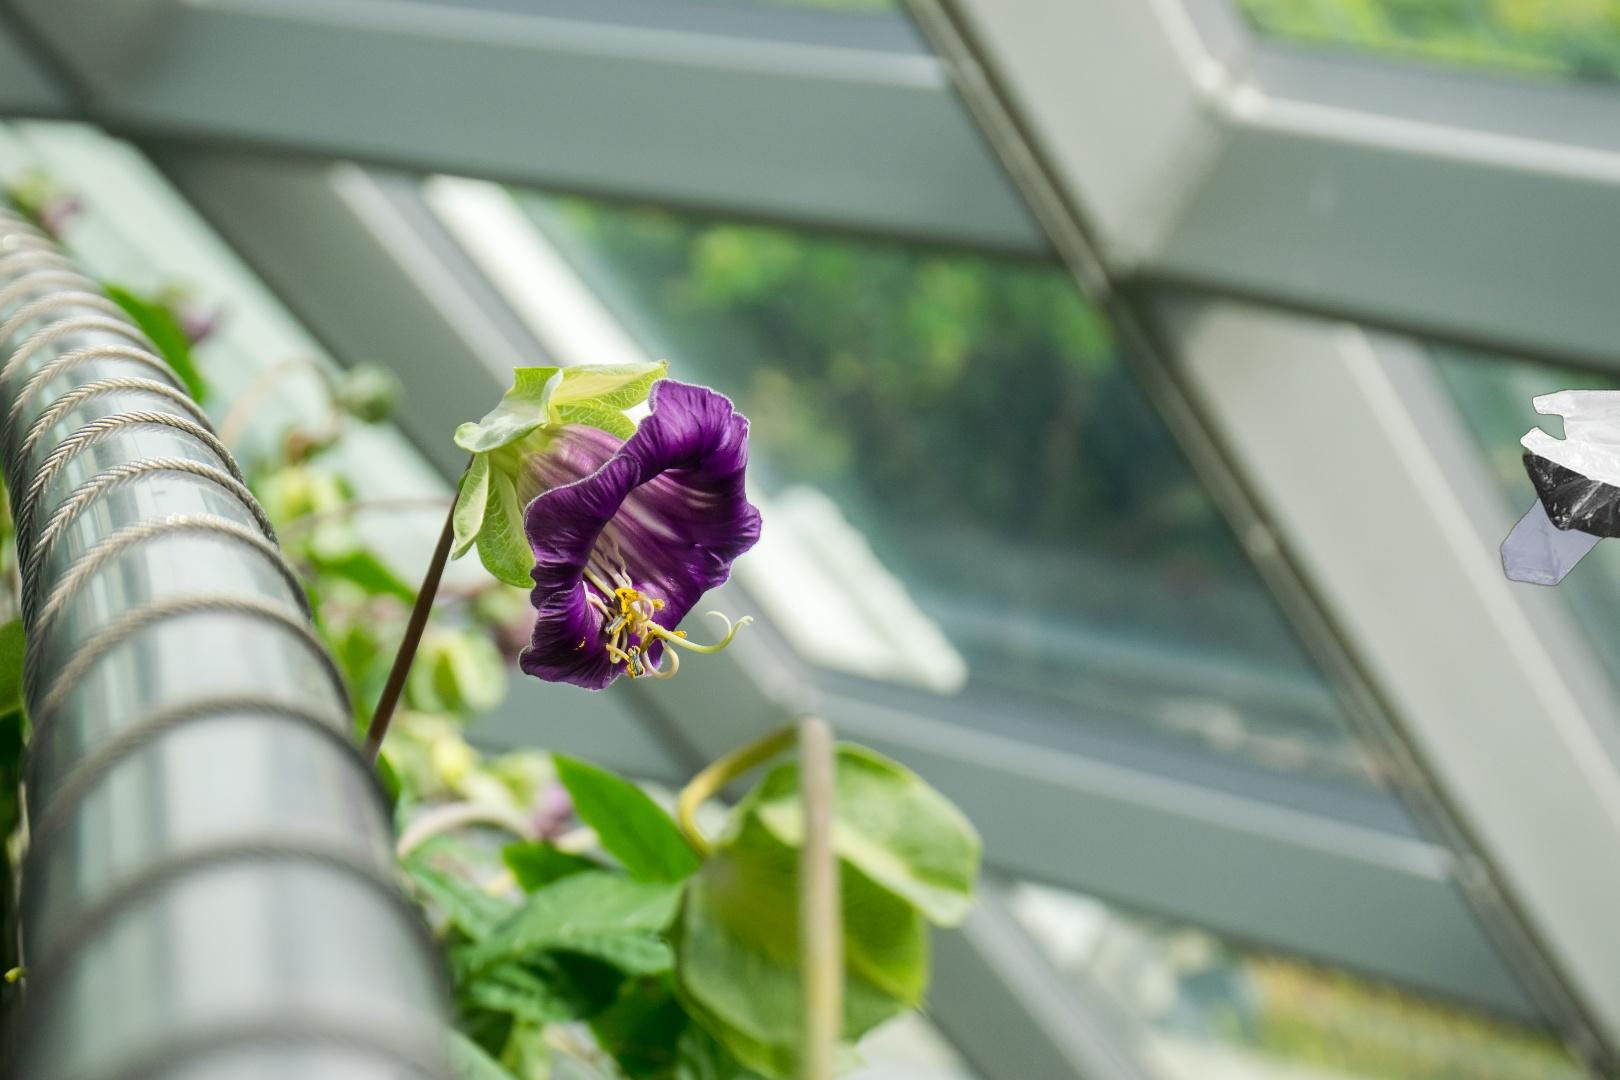plastic-bag: (1497, 386, 1620, 588)
